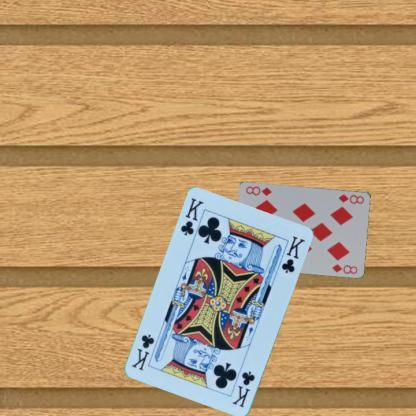8d: (336, 191, 365, 205)
Kc: (178, 196, 206, 237), (230, 368, 257, 410)
